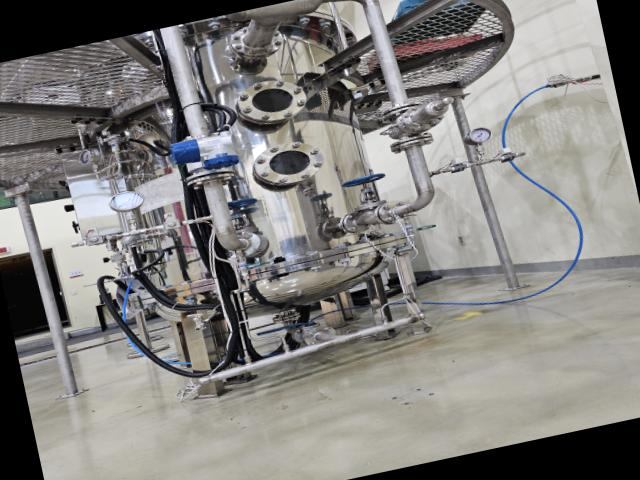Flange: (229, 72, 313, 133), (248, 134, 330, 194)
Flush Ring: (225, 18, 289, 63), (216, 226, 267, 264), (173, 164, 240, 191), (297, 320, 343, 348), (378, 100, 429, 124), (372, 196, 409, 228), (387, 132, 438, 154), (337, 208, 374, 238)
GasRegulator: (73, 124, 158, 186)
Nuts: (78, 230, 116, 250), (157, 215, 192, 235), (493, 148, 526, 167), (442, 159, 476, 177)
Piston Valve: (338, 166, 392, 210), (225, 194, 264, 234)
Pressure Gage: (104, 186, 152, 234), (458, 122, 500, 164)
